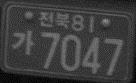0: (61, 34, 81, 71)
1: (87, 15, 95, 33)
4: (82, 35, 101, 75)
6: (103, 36, 124, 76)
7: (39, 30, 61, 71)
8: (71, 14, 85, 31)
가: (10, 28, 35, 56)
전북_O: (38, 10, 70, 29)
